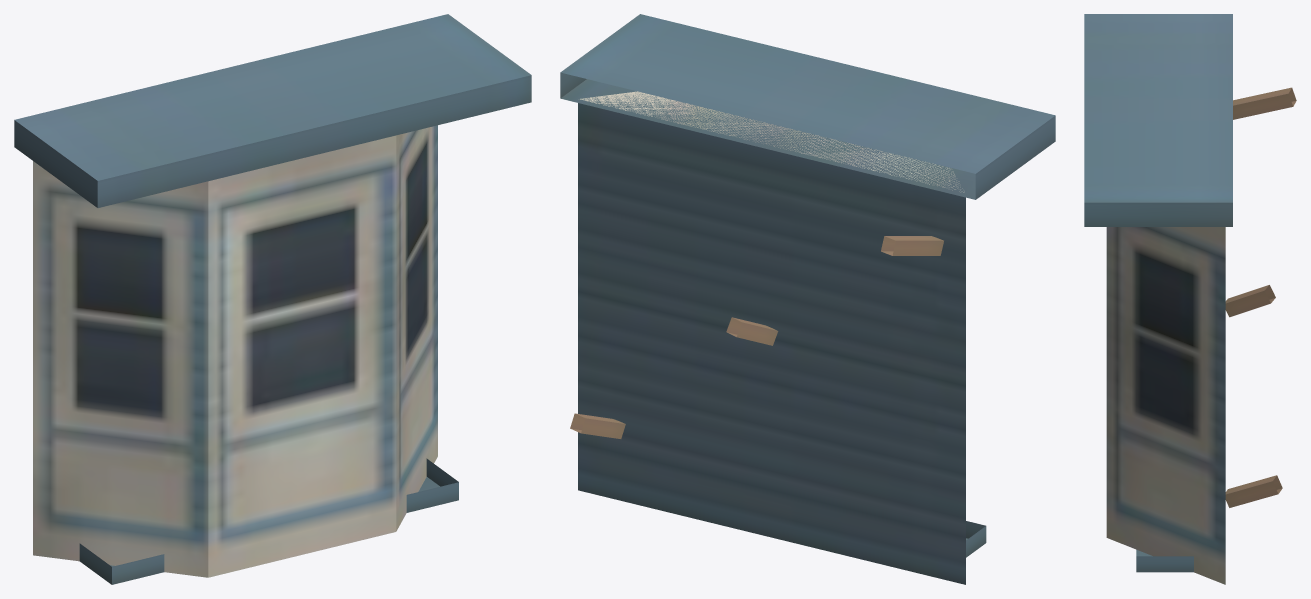
File: debris_sf_victorian_bay.glb
3 views of the same model, side by side, from view 1: azimuth 30°, elevation 25°; view 2: azimuth 150°, elevation 25°; view 3: azimuth 270°, elevation 25° (orthographic). The views are drawn at different scales.
Parts seen in each view (by area): view 1: debris_sf_victorian_bay; view 2: debris_sf_victorian_bay; view 3: debris_sf_victorian_bay.
Boxes of the visible parts, x1=… form: debris_sf_victorian_bay: x1=14, y1=14, x2=531, y2=584; debris_sf_victorian_bay: x1=560, y1=14, x2=1055, y2=584; debris_sf_victorian_bay: x1=1084, y1=14, x2=1296, y2=584.
Size of the model in its own units: 3 by 2.88 by 1.43.
Materials: 1 (1 with a texture image).
